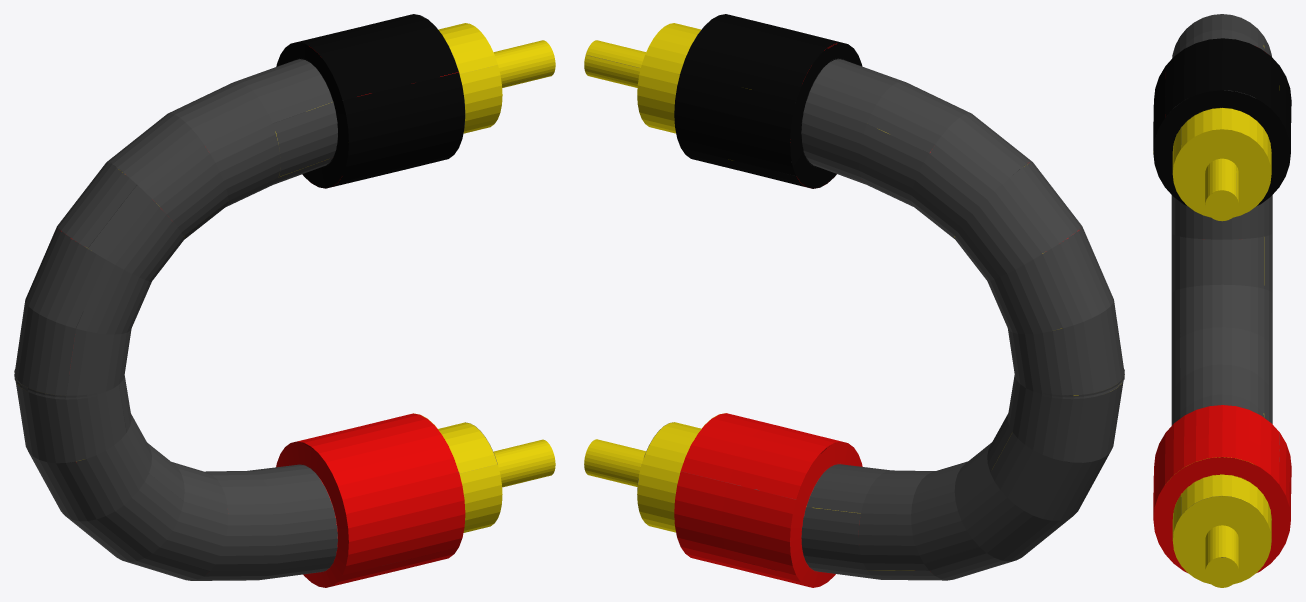
File: C-RCA.glb
3 renders of one model, left to right at view 1: azimuth 30°, elevation 25°; view 2: azimuth 150°, elevation 25°; view 3: azimuth 270°, elevation 25°, orthographic. The views are drawn at different scales.
Parts seen in each view (by area): view 1: Cylinder.001; view 2: Cylinder.001; view 3: Cylinder.001.
Part boxes in pixels (bbox=[...]): Cylinder.001: bbox=[14, 14, 555, 587]; Cylinder.001: bbox=[584, 14, 1124, 587]; Cylinder.001: bbox=[1153, 14, 1291, 587].
Size of the model in its own units: 11 by 10.72 by 2.74.
Materials: 1 (1 with a texture image).
